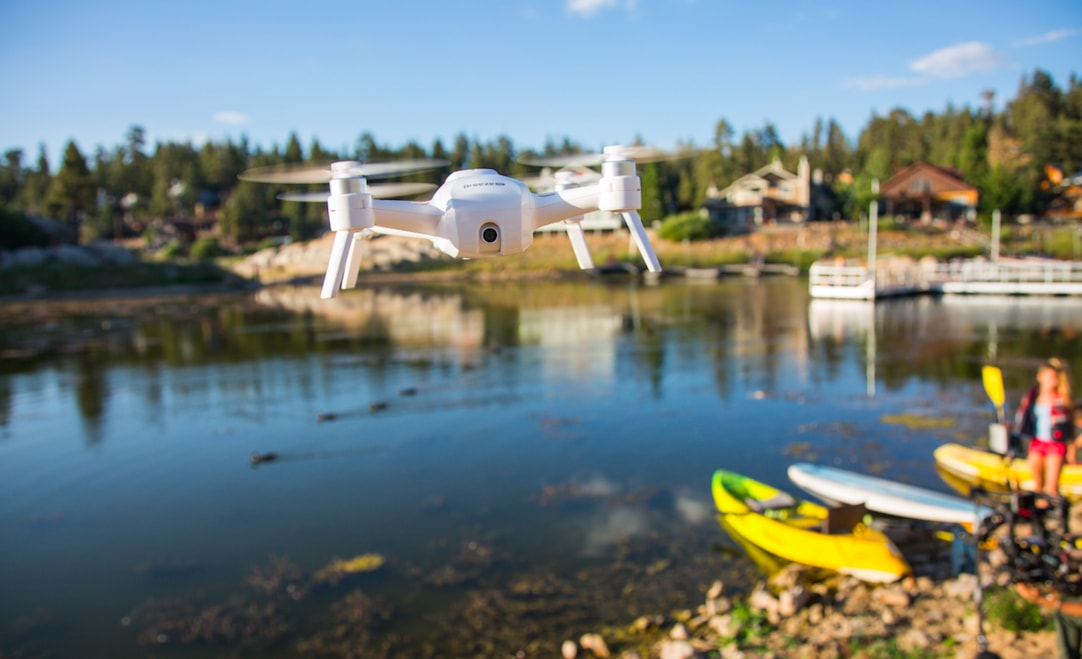drone: (241, 142, 706, 304)
person: (992, 355, 1082, 499)
